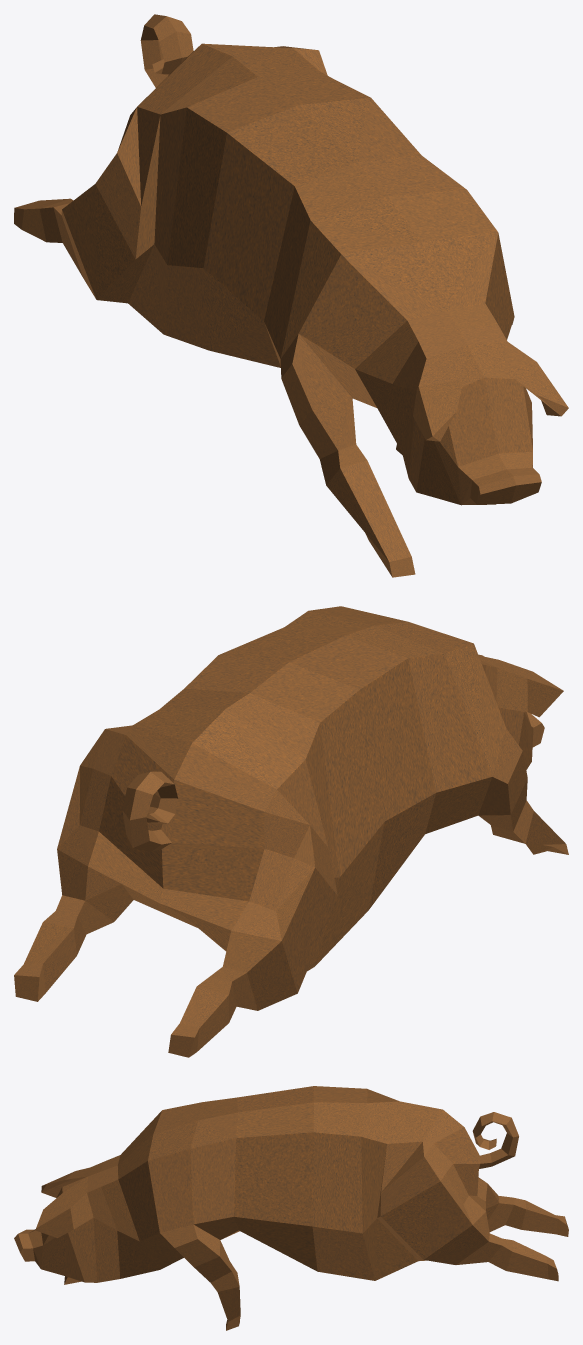
Rendered from Pig_000018.obj.
3 renders of one model, top to bottom at view 1: azimuth 30°, elevation 25°; view 2: azimuth 150°, elevation 25°; view 3: azimuth 270°, elevation 25°, orthographic. The views are drawn at different scales.
Visible parts, largest first — view 1: Pig_Cylinder; view 2: Pig_Cylinder; view 3: Pig_Cylinder.
Boxes of the visible parts, x1=… form: Pig_Cylinder: x1=14, y1=14, x2=568, y2=577; Pig_Cylinder: x1=14, y1=606, x2=568, y2=1057; Pig_Cylinder: x1=14, y1=1086, x2=568, y2=1330.
Size of the model in its own units: 3.4 by 4.32 by 10.39.
1 material, 1 textured.
